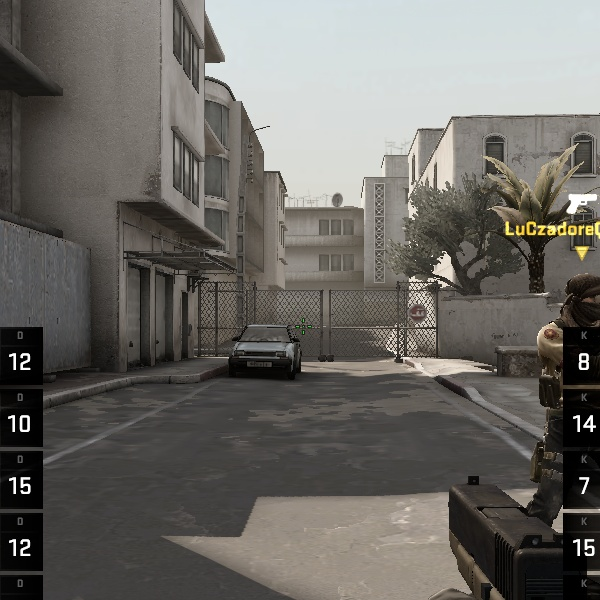t_head: (559, 265, 600, 325)
